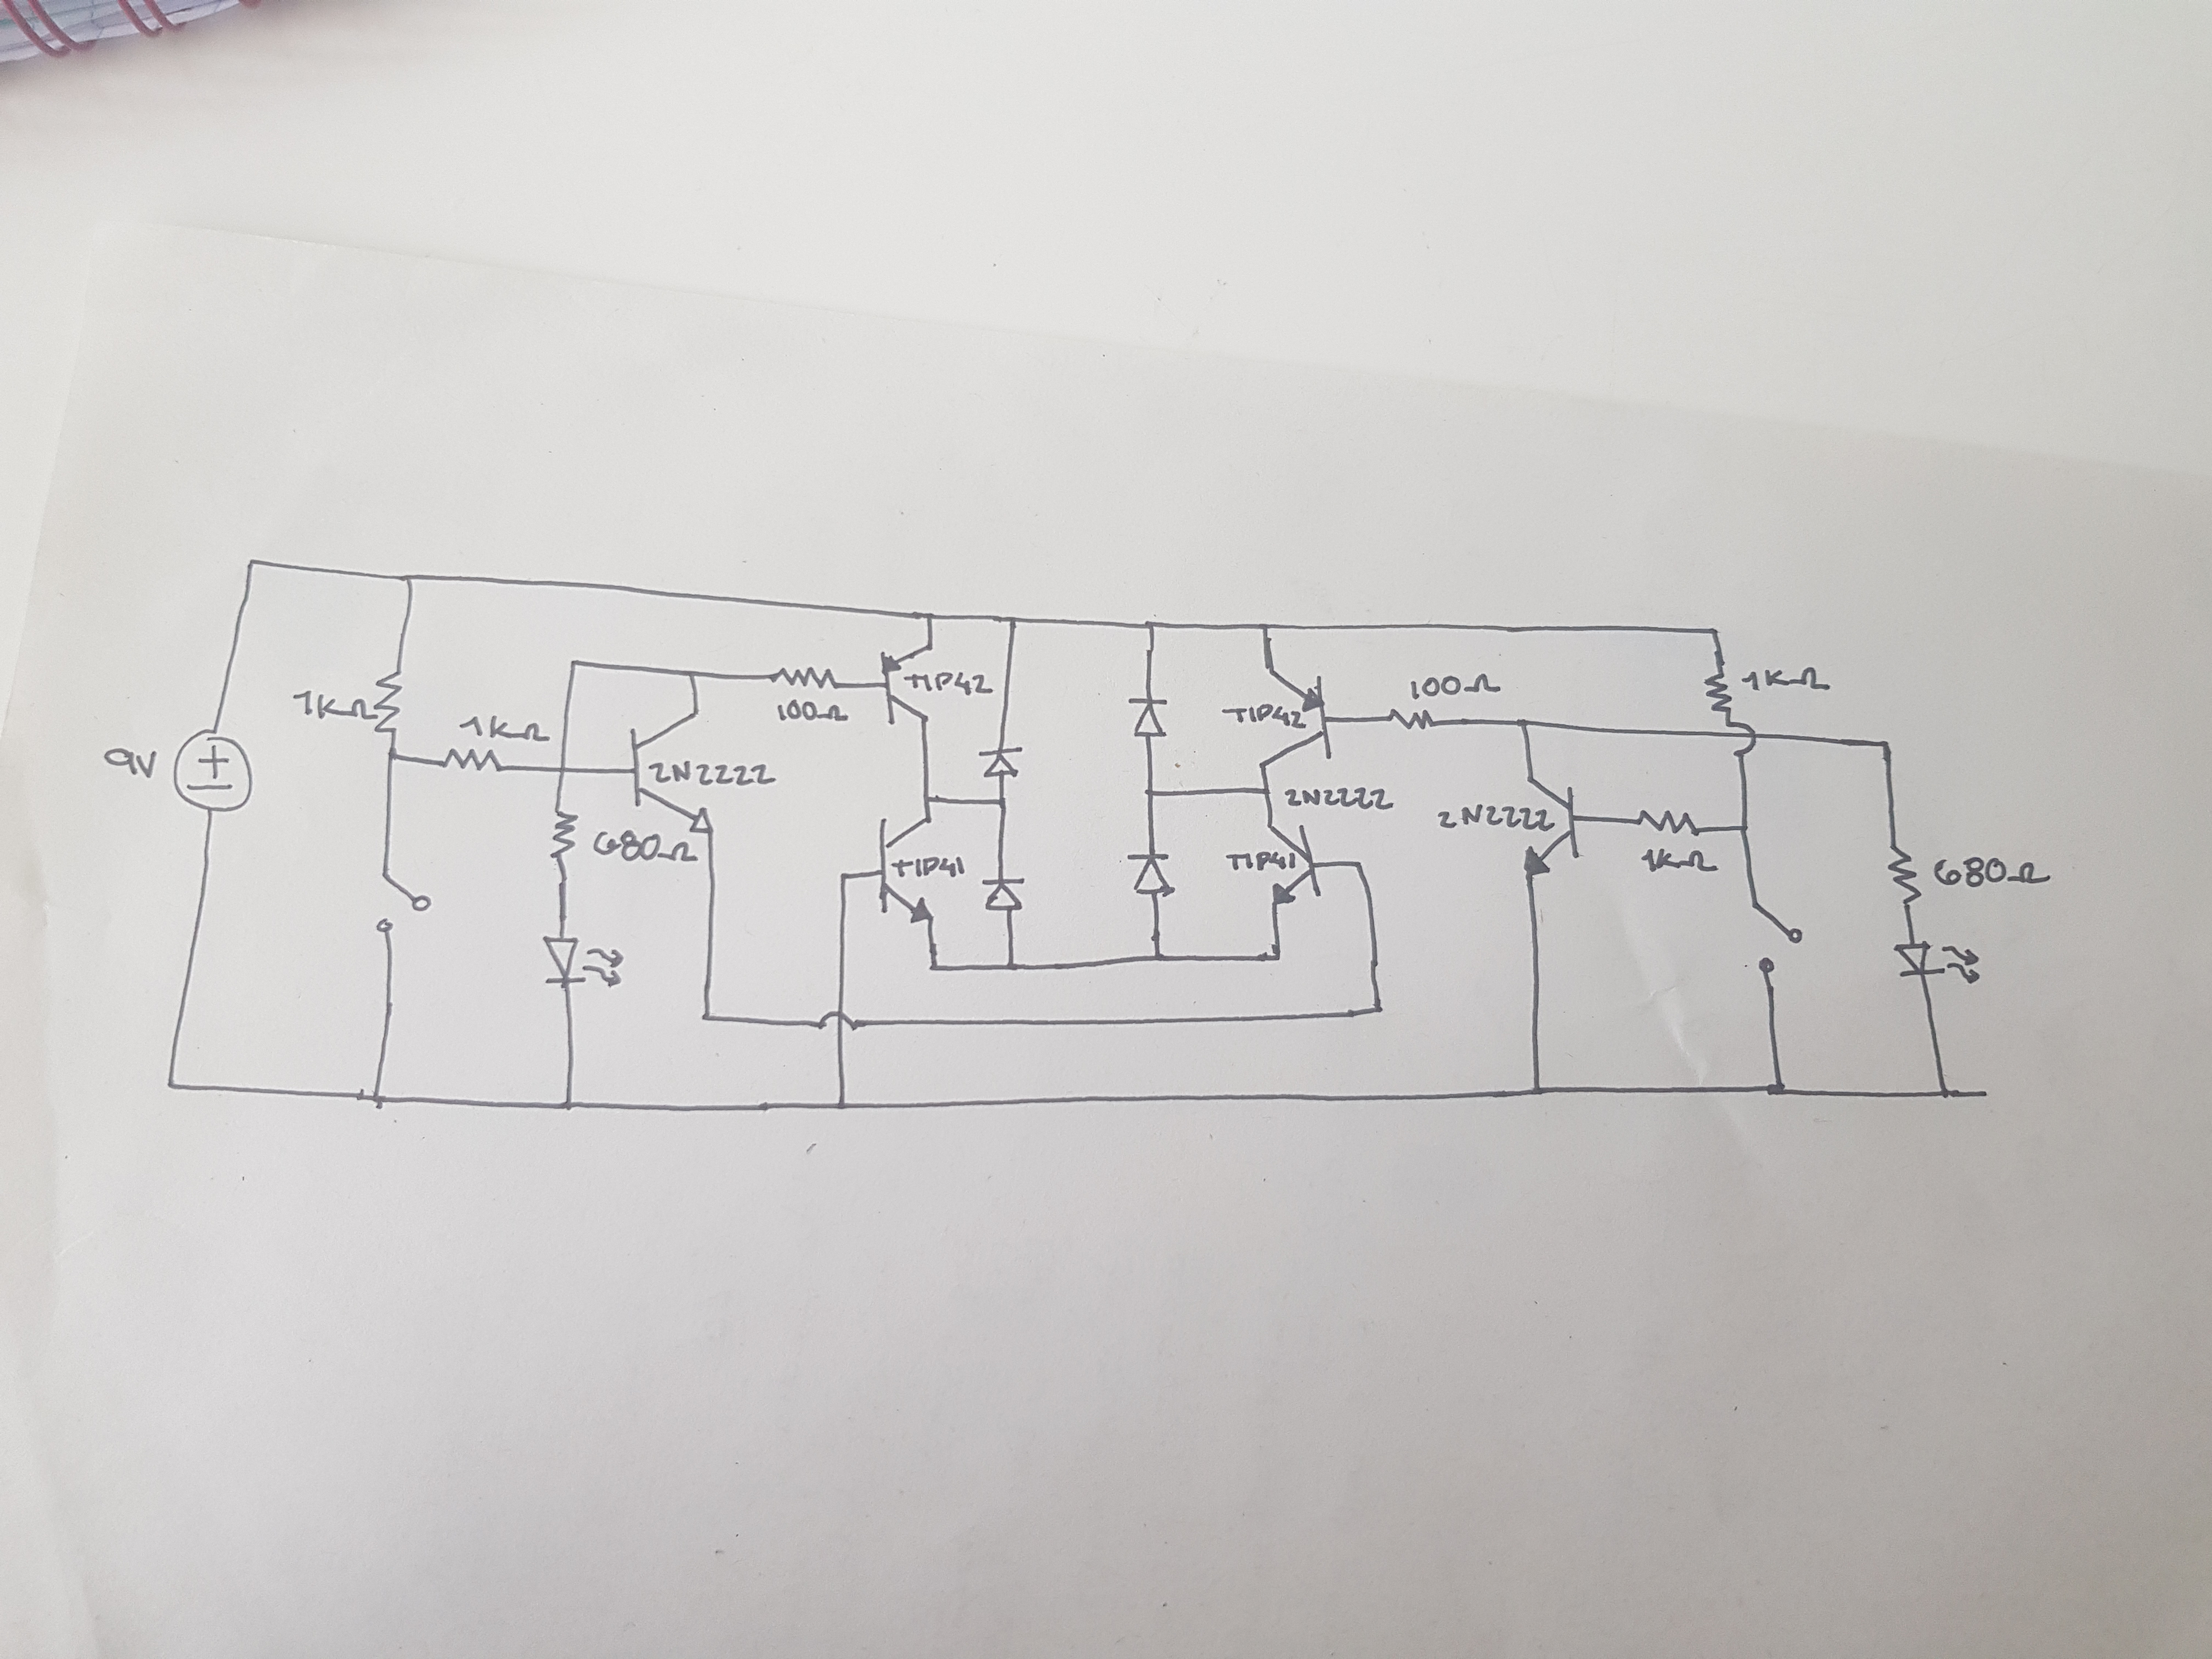crossover: (815, 1007, 859, 1040), (1728, 723, 1757, 762)
diode: (1118, 843, 1177, 897), (1123, 692, 1174, 744), (974, 873, 1031, 918), (972, 744, 1031, 782)
diode.light_emitting: (540, 927, 625, 993), (1886, 936, 1987, 992)
junction: (691, 1002, 721, 1032), (1761, 1075, 1792, 1103), (556, 1091, 583, 1121), (394, 563, 421, 592), (1930, 1084, 1958, 1112), (1362, 997, 1390, 1023), (364, 1080, 385, 1114), (681, 662, 707, 688), (157, 1070, 183, 1096), (1141, 945, 1169, 969), (1510, 713, 1536, 737), (242, 554, 266, 579), (1524, 1075, 1547, 1101), (1254, 615, 1280, 638), (1264, 945, 1289, 967), (920, 958, 944, 981), (827, 1091, 850, 1115), (563, 652, 585, 676), (1141, 613, 1162, 640), (1876, 735, 1897, 758), (1254, 779, 1277, 800), (998, 955, 1021, 976), (1141, 784, 1162, 805), (1733, 823, 1756, 842), (554, 758, 571, 782), (381, 746, 401, 767), (1703, 624, 1726, 641), (1007, 612, 1022, 636), (1348, 854, 1366, 875), (991, 795, 1012, 812), (921, 606, 939, 626), (833, 866, 850, 885), (920, 793, 934, 807)
resistor: (1879, 836, 1928, 911), (435, 742, 509, 781), (1632, 802, 1705, 840), (765, 660, 843, 695), (368, 666, 406, 735), (1379, 702, 1447, 737), (547, 805, 582, 864), (1696, 669, 1740, 716)
switch: (1737, 894, 1810, 979), (368, 864, 435, 943)
text: (1930, 849, 2055, 885), (590, 826, 698, 866), (648, 758, 780, 789), (1435, 805, 1555, 835), (455, 713, 552, 746), (291, 688, 378, 723), (1407, 669, 1500, 701), (1637, 845, 1723, 878), (1280, 789, 1397, 812), (1740, 664, 1832, 692), (96, 742, 162, 781), (906, 669, 991, 699), (772, 695, 852, 727), (1219, 702, 1305, 730), (892, 856, 968, 884), (1223, 849, 1301, 875)
transistor: (624, 708, 723, 842), (1505, 772, 1590, 884), (1252, 666, 1338, 774), (874, 817, 937, 931), (1256, 816, 1327, 910), (874, 640, 939, 730)
voltage.dc: (160, 725, 256, 819)
